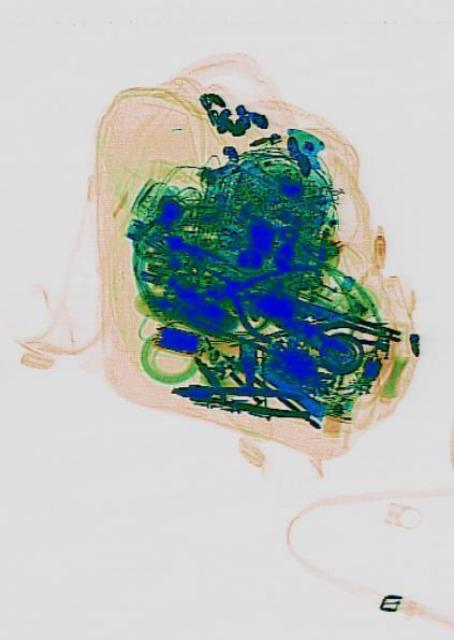Pliers: (203, 240, 313, 348), (168, 374, 308, 418)
